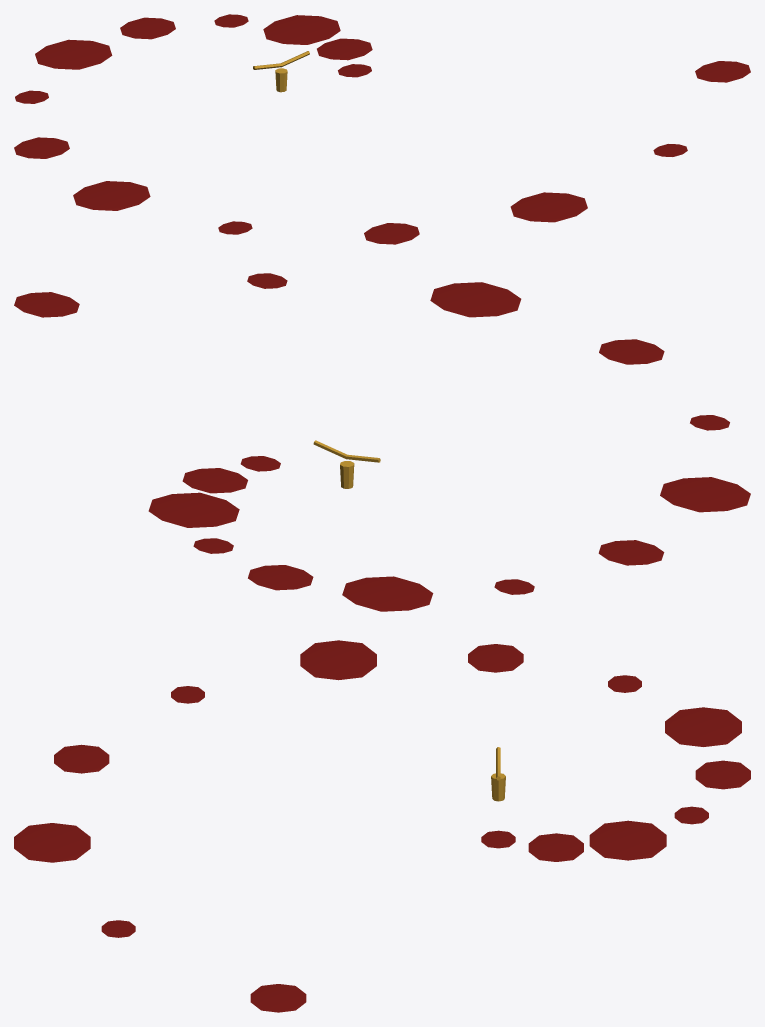
File: red_sprinkler.glb
3 renders of one model, top to bottom at view 1: azimuth 30°, elevation 25°; view 2: azimuth 150°, elevation 25°; view 3: azimuth 270°, elevation 25°, orthographic. The views are drawn at different scales.
Parts seen in each view (by area): view 1: red_sprinkler; view 2: red_sprinkler; view 3: red_sprinkler.
Part boxes in pixels (x1,y1,x2,y2): red_sprinkler: [14, 14, 750, 244]; red_sprinkler: [14, 273, 750, 611]; red_sprinkler: [14, 640, 750, 1012].
Bounding box in the file's own units: 7.04 × 0.3387 × 5.88.
